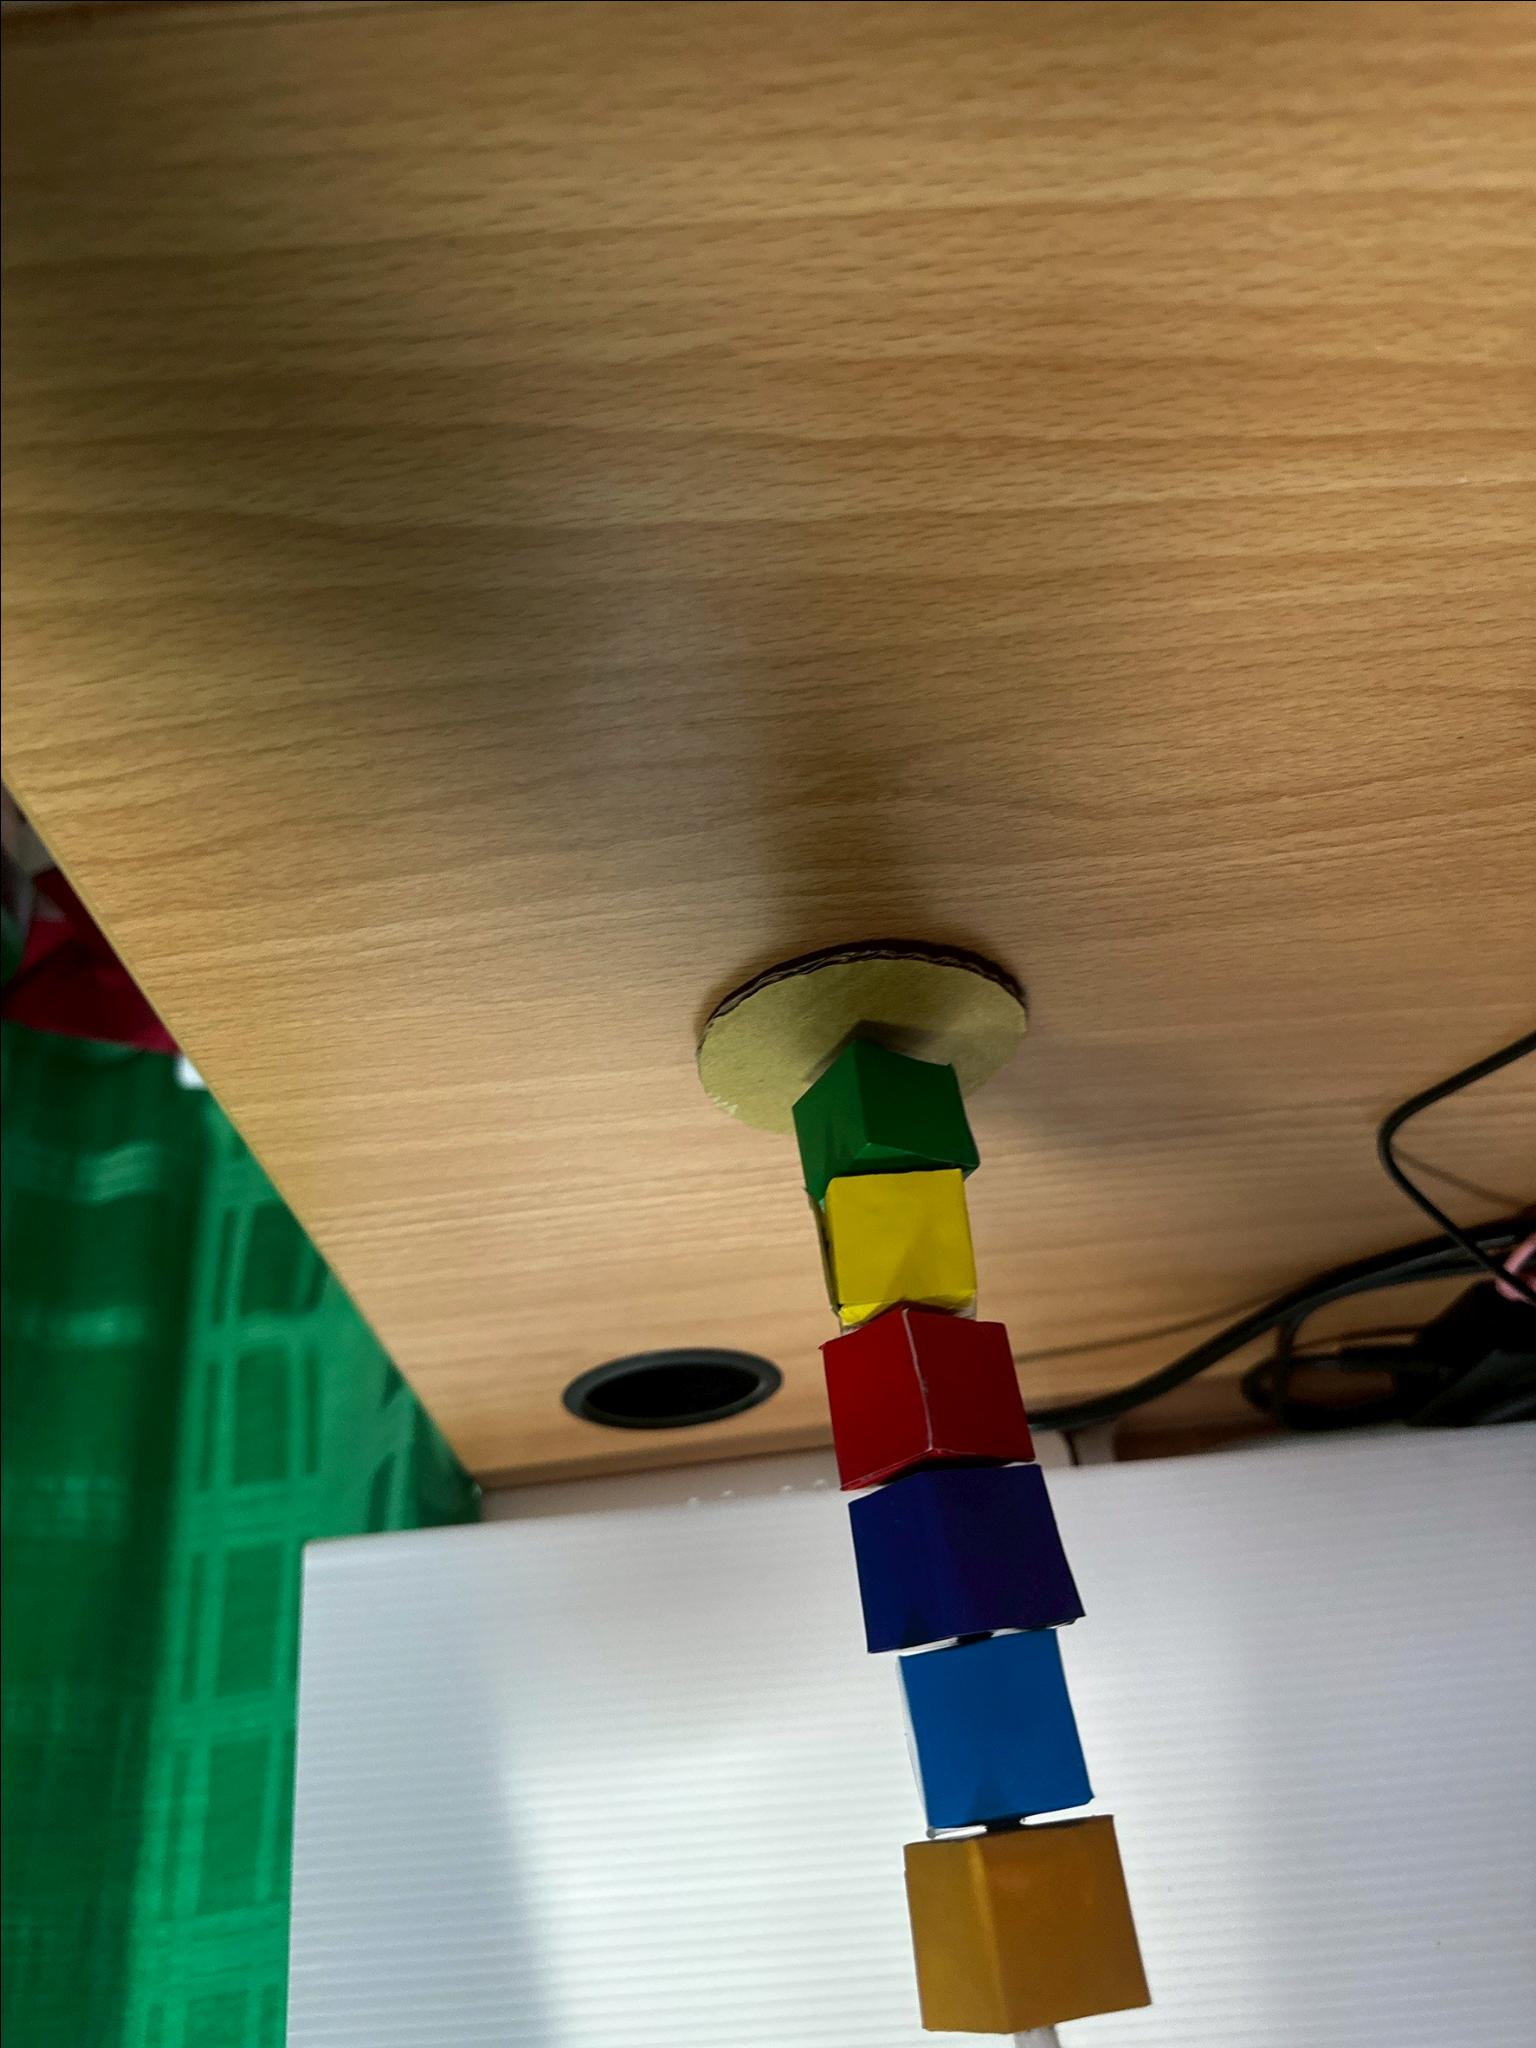base: (697, 947, 1025, 1132)
